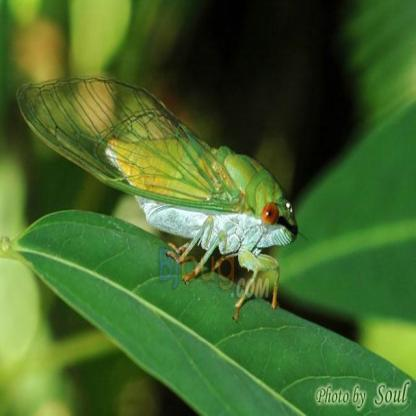Green-Leafhopper: (14, 74, 305, 323)
